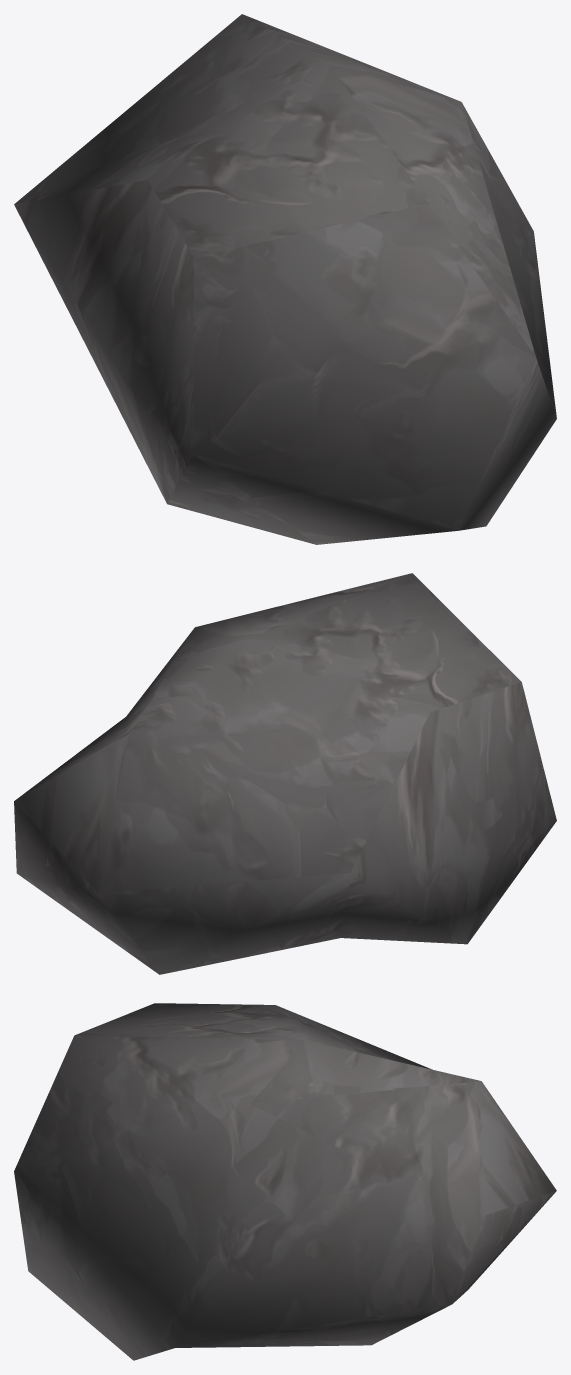
The model's file is rock4.fbx.
The picture shows the model from 3 angles, top to bottom: view 1: azimuth 30°, elevation 25°; view 2: azimuth 150°, elevation 25°; view 3: azimuth 270°, elevation 25°; orthographic projection. The views are drawn at different scales.
Parts seen in each view (by area): view 1: Cube; view 2: Cube; view 3: Cube.
Part boxes in pixels (x1,y1,x2,y2): Cube: [14, 14, 556, 544]; Cube: [14, 573, 556, 974]; Cube: [14, 1003, 556, 1360].
Size of the model in its own units: 218 by 189 by 306.
